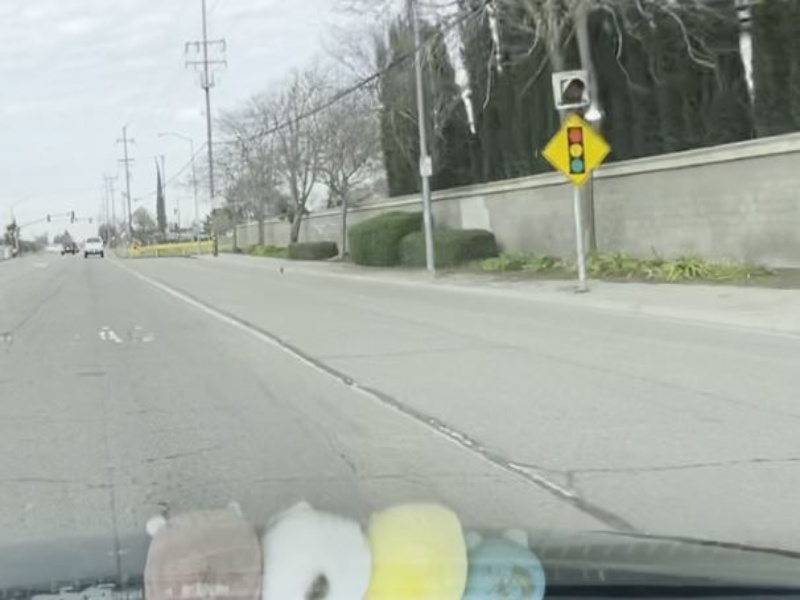traffic signal sign: (540, 113, 612, 187)
